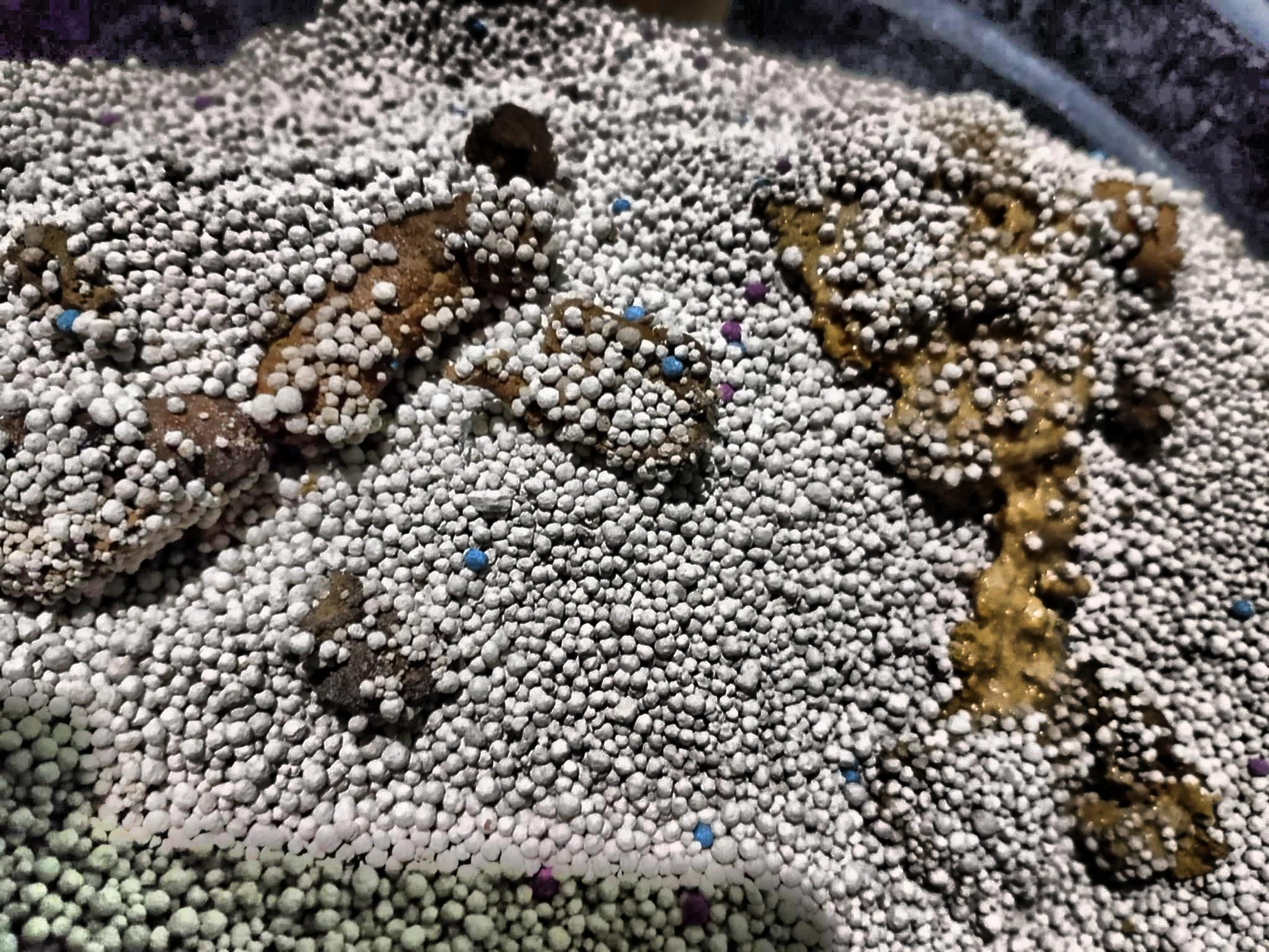poop: (0, 105, 555, 604), (760, 118, 1182, 718)
